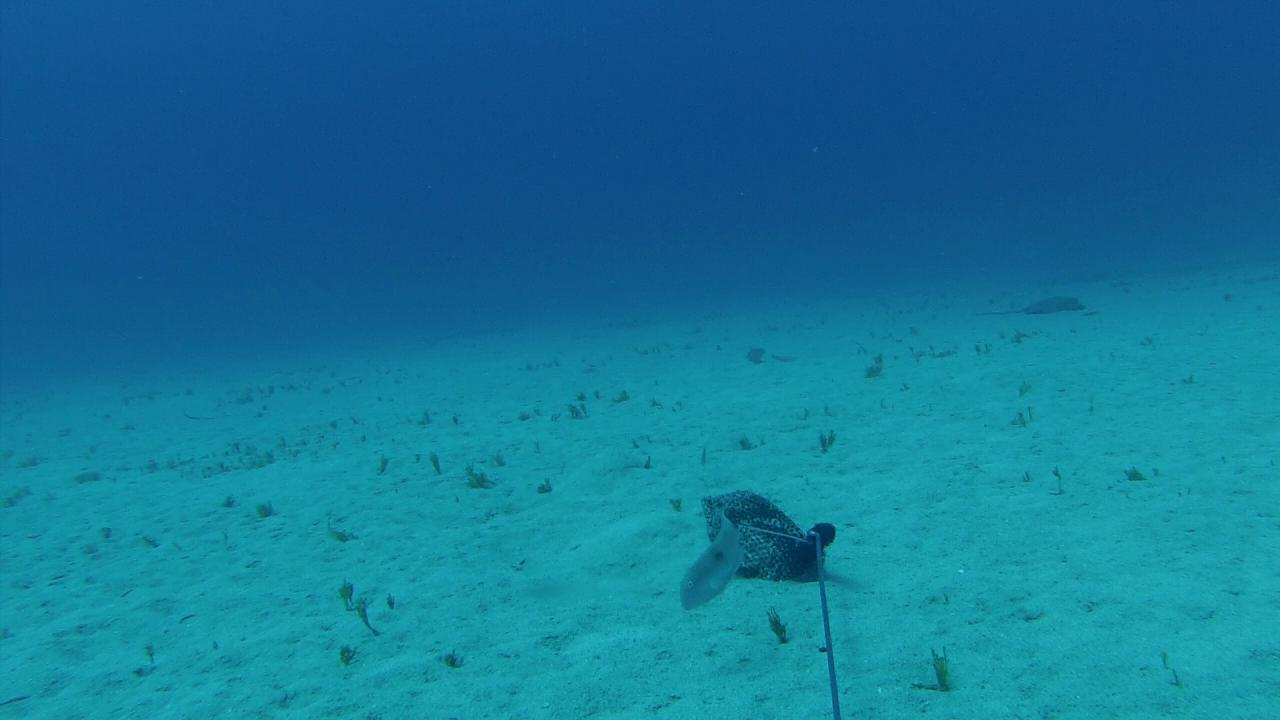dasyatis: (966, 293, 1084, 317)
raor: (677, 507, 741, 613)
